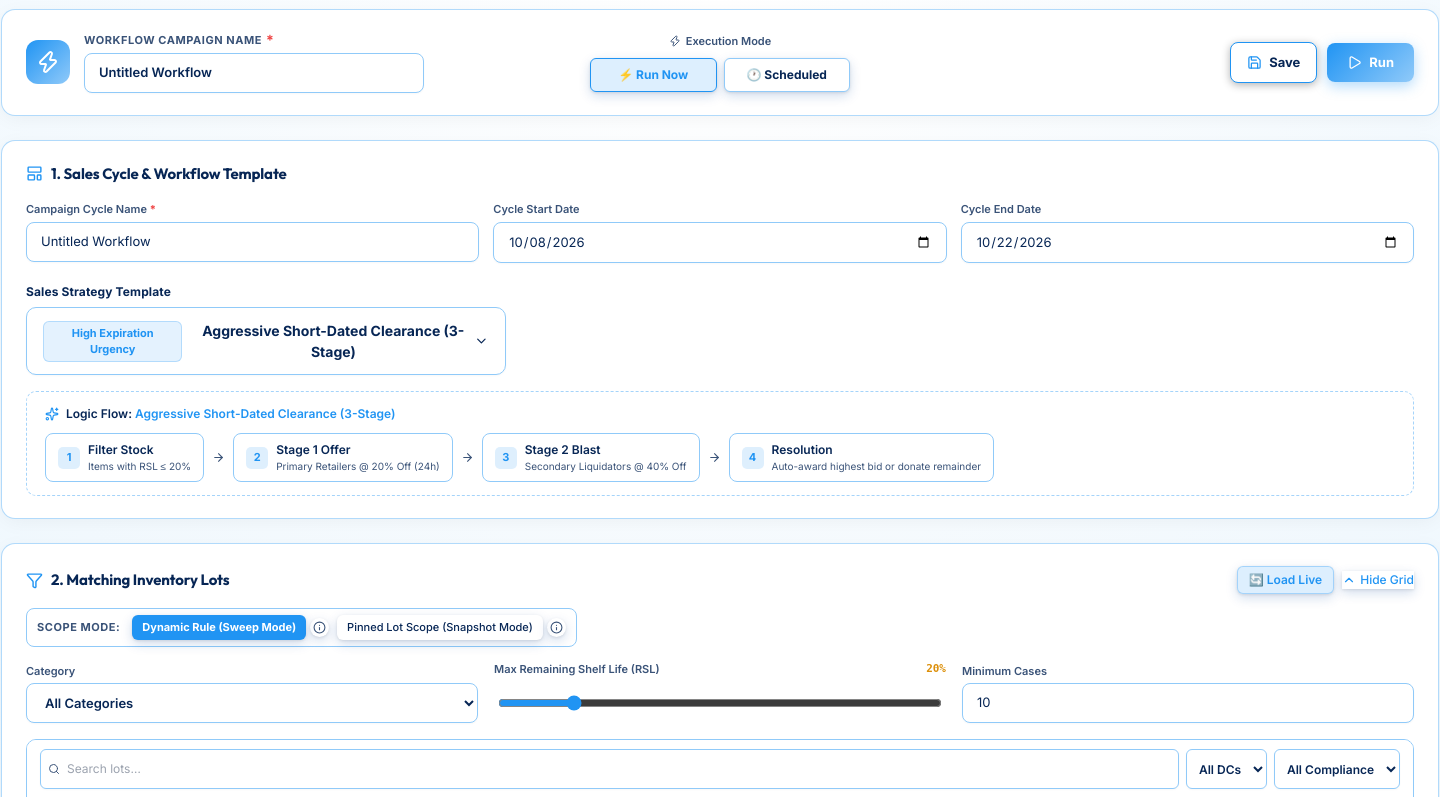
Test case: Slice 2: Granular Per-Stage Inventory Allocation › allows toggling to Custom Lot Selection and selecting specific lots
Expand Stage 1
Click the text "1": point(69, 458) [58,446,80,468]
(page scrolled)
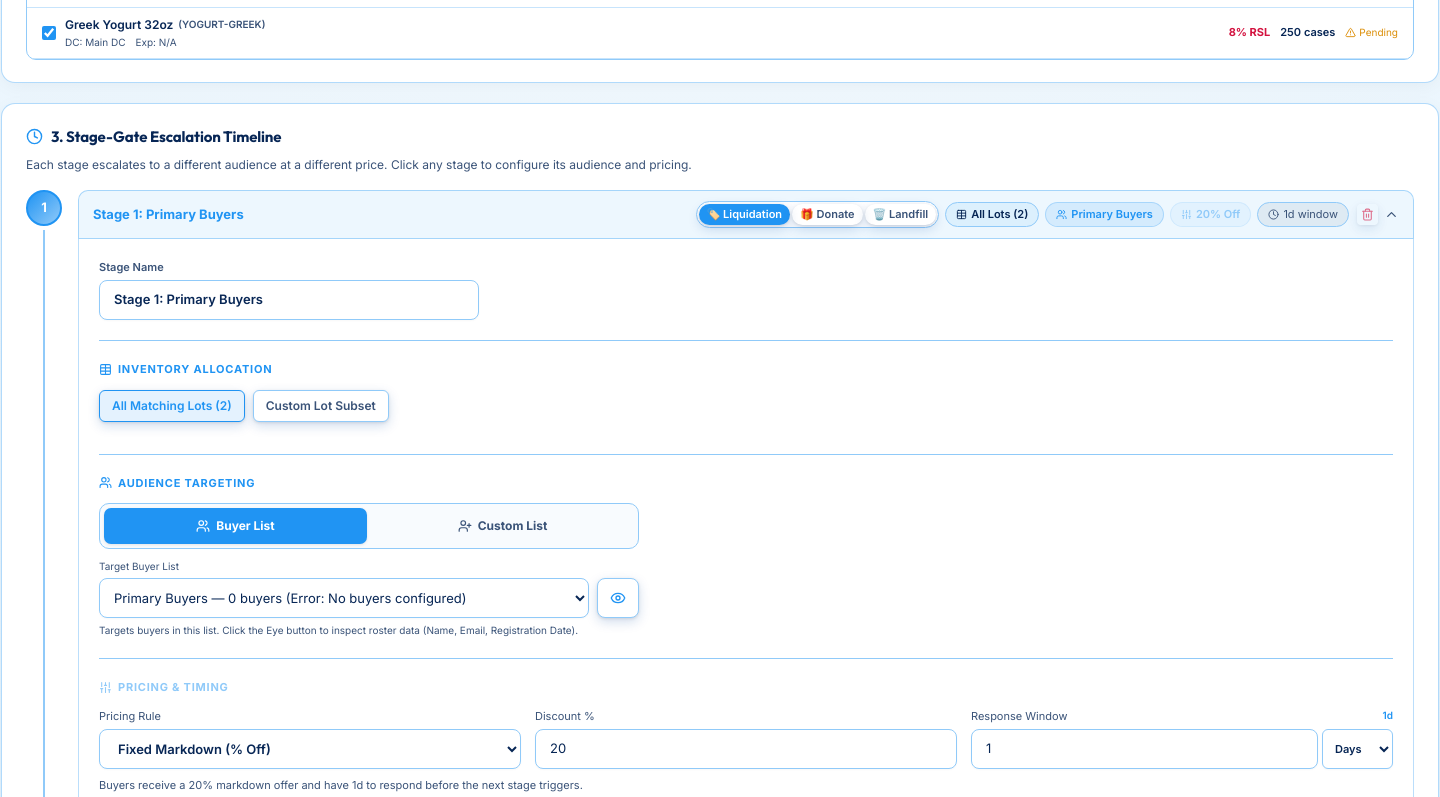
Switch to Custom Lot Subset mode
Click the button with test id "stage-1-allocation-custom-btn": point(321, 406) [253,390,389,422]
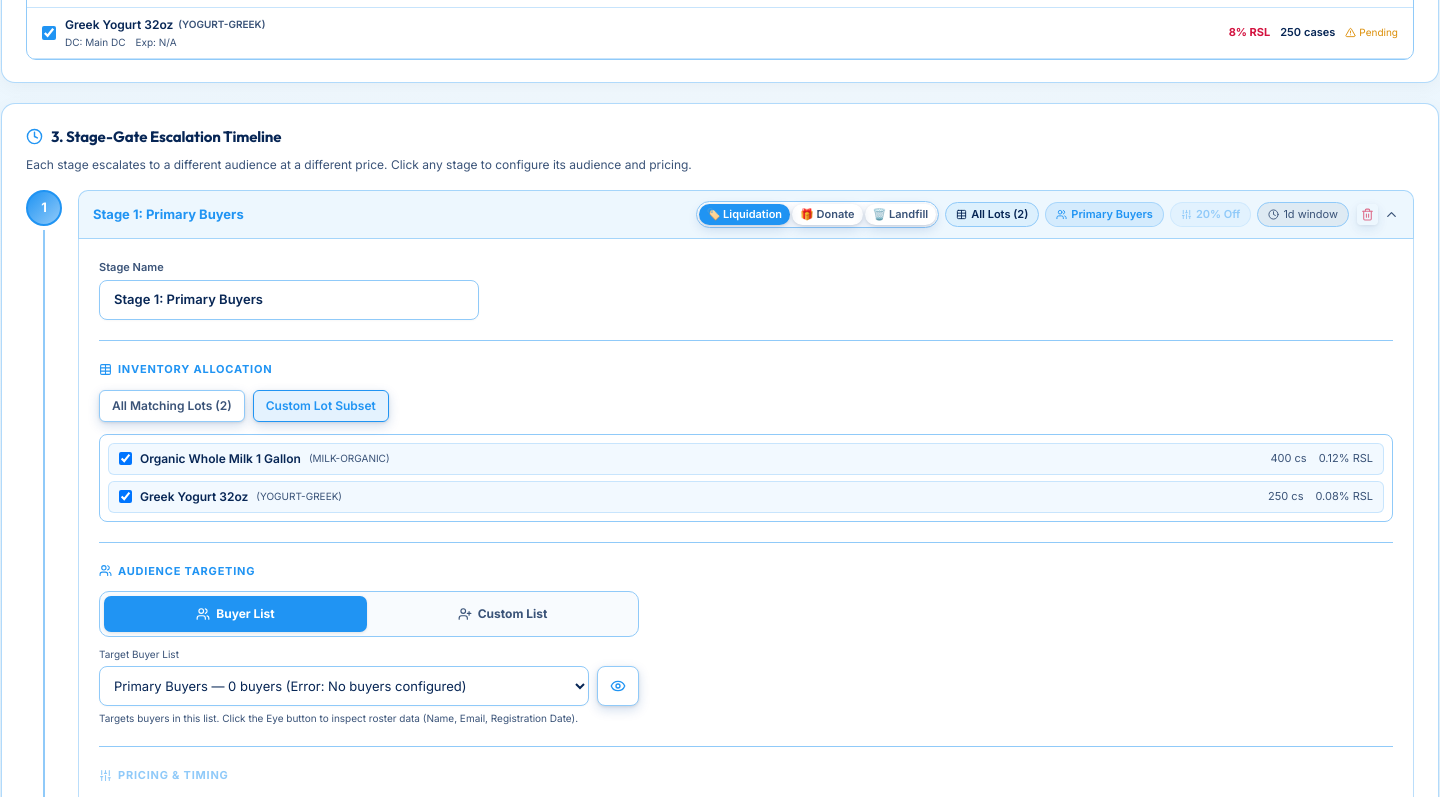
Result: the checkbox with test id "stage-1-lot-checkbox-lot-101" is shown
Result: the checkbox with test id "stage-1-lot-checkbox-lot-102" is shown at [119,490,132,503]
Click the checkbox with test id "stage-1-lot-checkbox-lot-101": point(126, 458) [119,452,132,465]
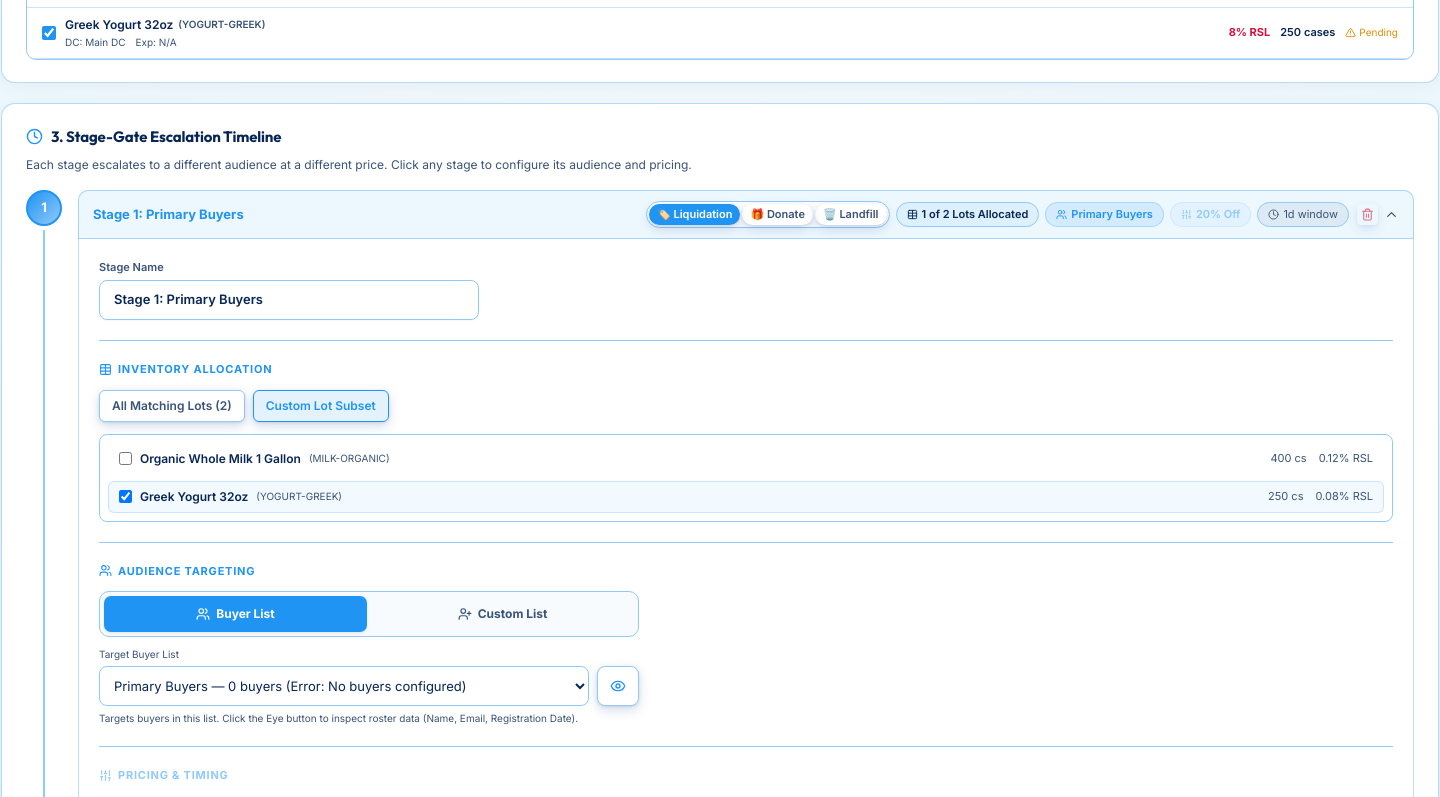
Result: the element with test id "stage-1-lot-allocation-chip" shows "1 of 2 Lots" at [922,207,1028,221]
